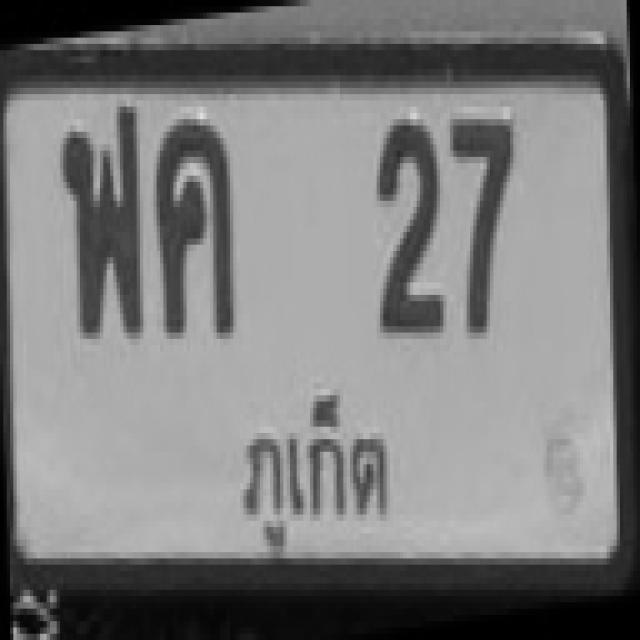13KhorKhwai: (150, 92, 240, 366)
2: (365, 101, 449, 352)
40ForFun: (48, 89, 150, 358)
7: (445, 92, 525, 376)
Phuket: (218, 385, 416, 556)
